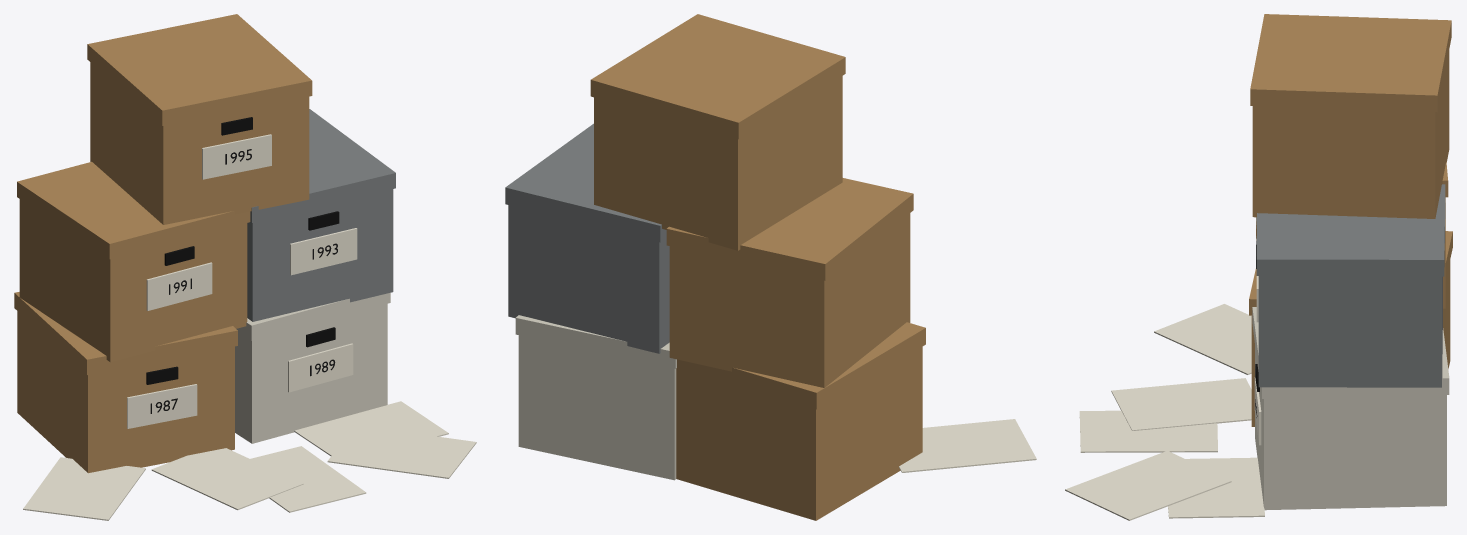
Rendered from file_boxes.glb.
3 renders of one model, left to right at view 1: azimuth 30°, elevation 25°; view 2: azimuth 150°, elevation 25°; view 3: azimuth 270°, elevation 25°, orthographic. The views are drawn at different scales.
Visible parts, largest first — view 1: Archive; view 2: Archive; view 3: Archive.
Boxes of the visible parts, bbox=[...] form: Archive: bbox=[14, 14, 476, 520]; Archive: bbox=[505, 14, 1036, 520]; Archive: bbox=[1065, 14, 1452, 520].
Size of the model in its own units: 1.11 by 0.91 by 0.846.
